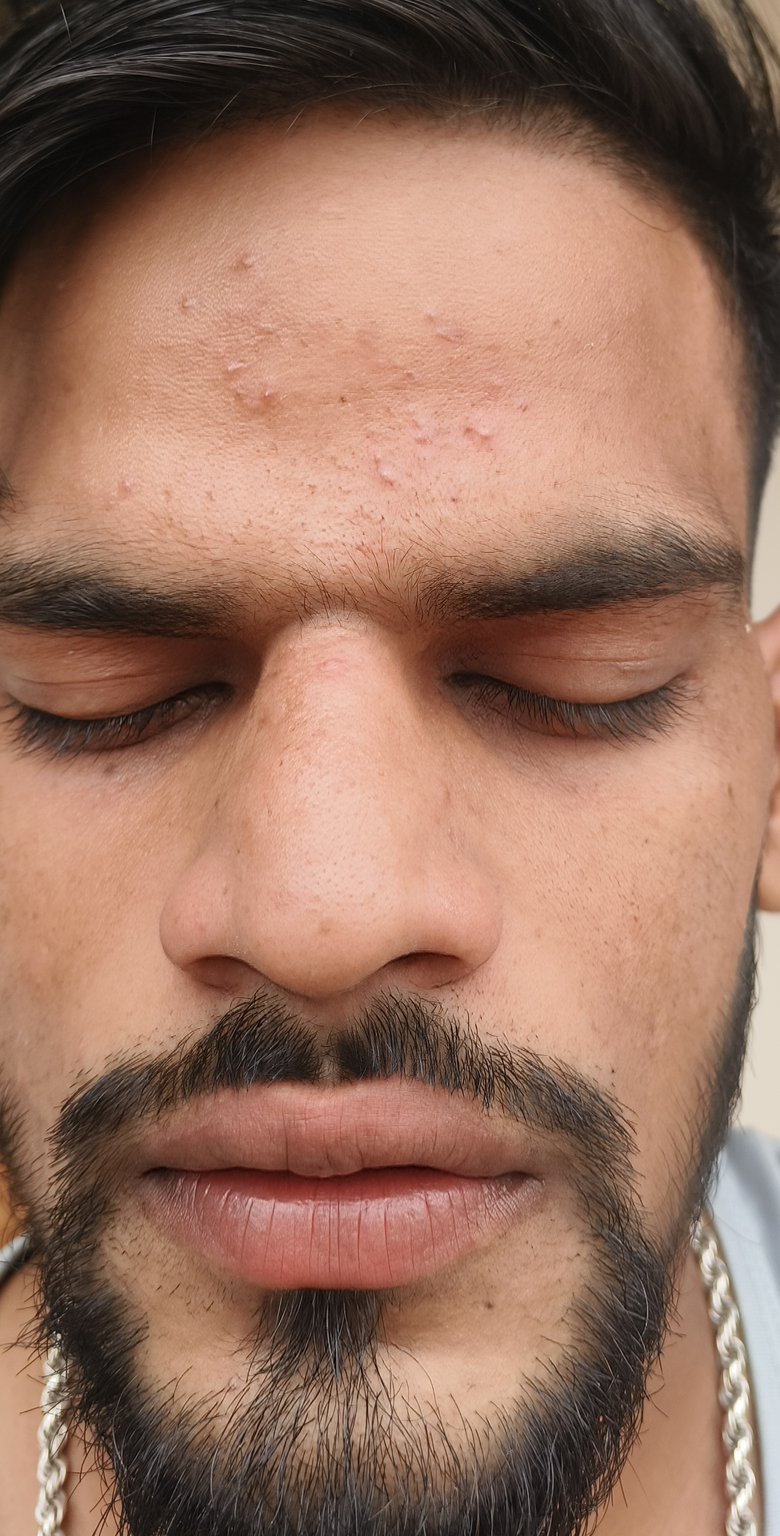papule: (215, 233, 309, 304), (230, 350, 291, 444), (441, 398, 509, 459), (365, 456, 433, 507)
